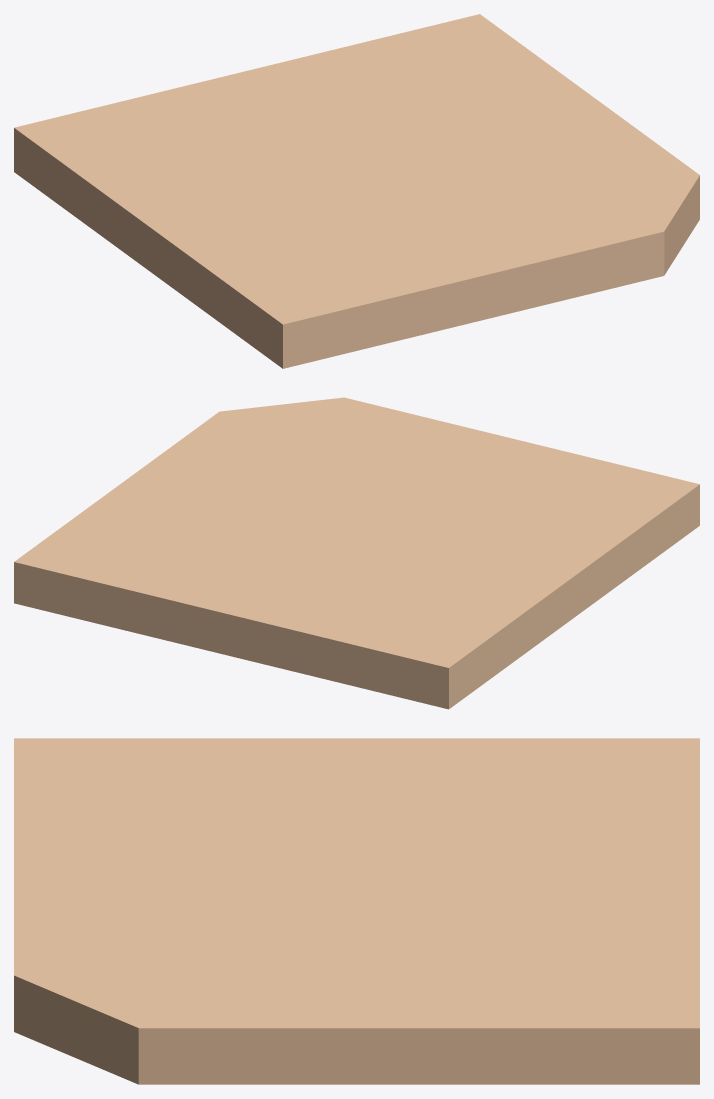
The model's file is k_floorCorner.glb.
3 views of the same model, one above another, from view 1: azimuth 30°, elevation 25°; view 2: azimuth 150°, elevation 25°; view 3: azimuth 270°, elevation 25° (orthographic). The views are drawn at different scales.
Visible parts, largest first — view 1: floorCorner(Clone); view 2: floorCorner(Clone); view 3: floorCorner(Clone).
Part boxes in pixels (x1,y1,x2,y2): floorCorner(Clone): (14, 14, 699, 368); floorCorner(Clone): (14, 397, 699, 709); floorCorner(Clone): (14, 738, 699, 1084).
Size of the model in its own units: 1 by 0.0911 by 1.
